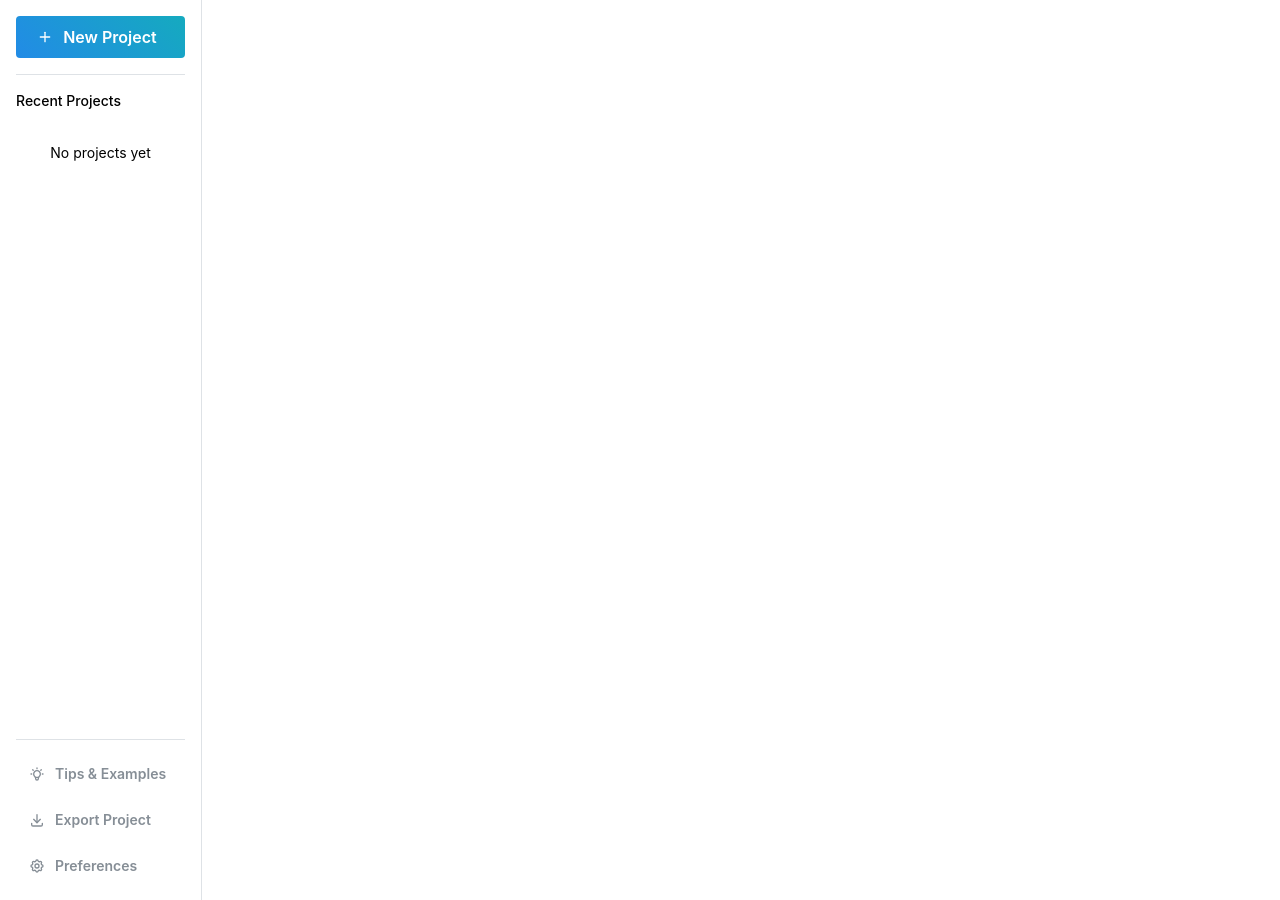
Test: Sidebar › opens new project modal when New Project button is clicked
Click the button "New Project". click: (101,37)
box: x1=16 y1=16 x2=185 y2=58
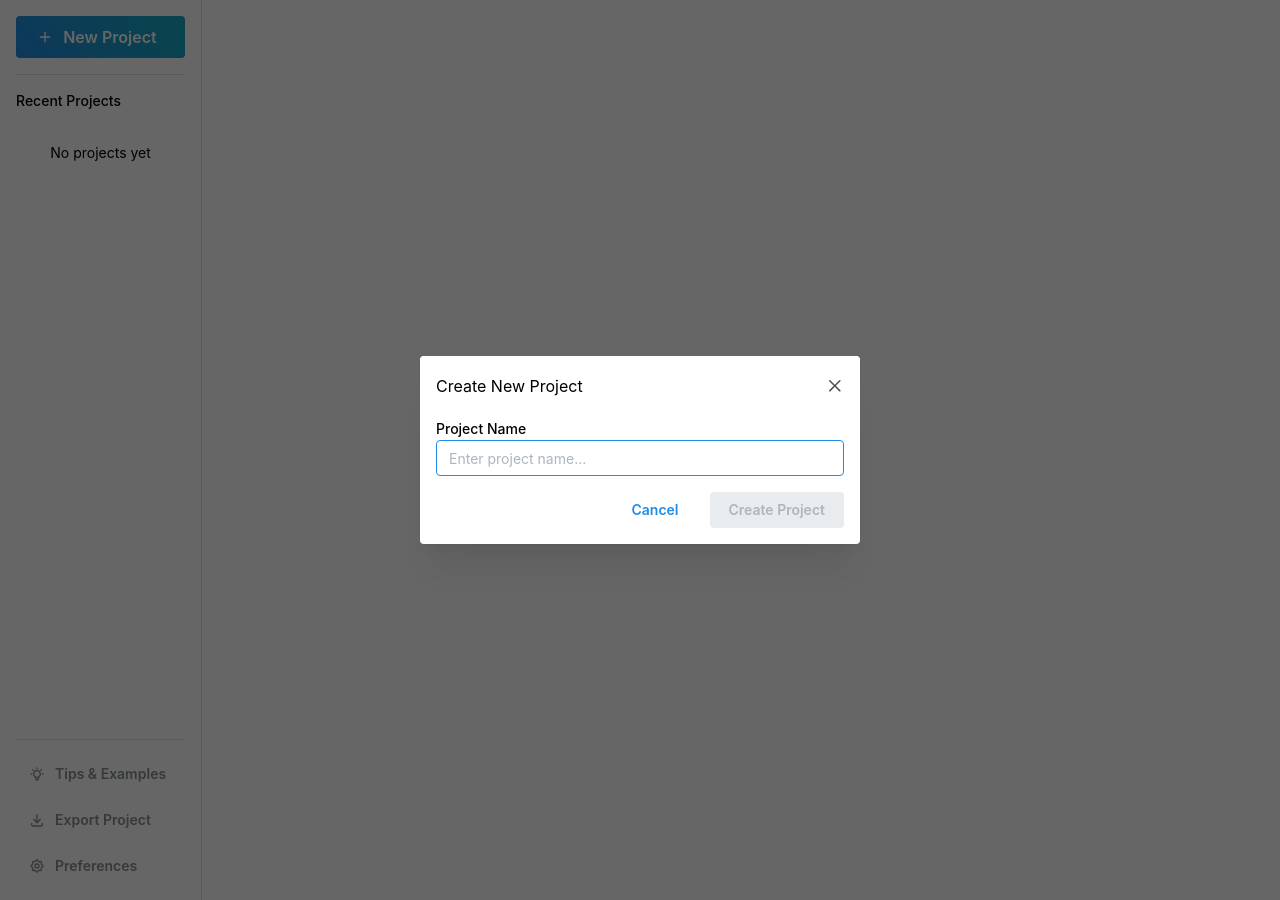
Check: the heading "Create New Project" is shown, box x1=436 y1=378 x2=583 y2=394
Check: the field with placeholder "Enter project name..." is shown, box x1=436 y1=440 x2=844 y2=476
